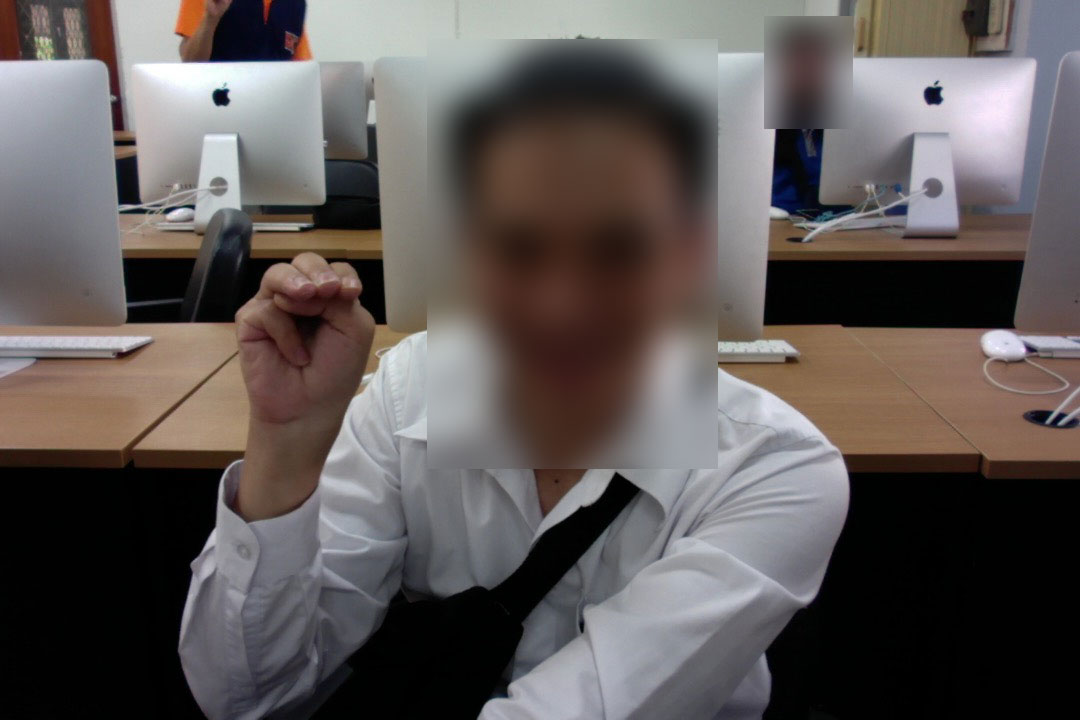mor: (231, 247, 378, 445)
